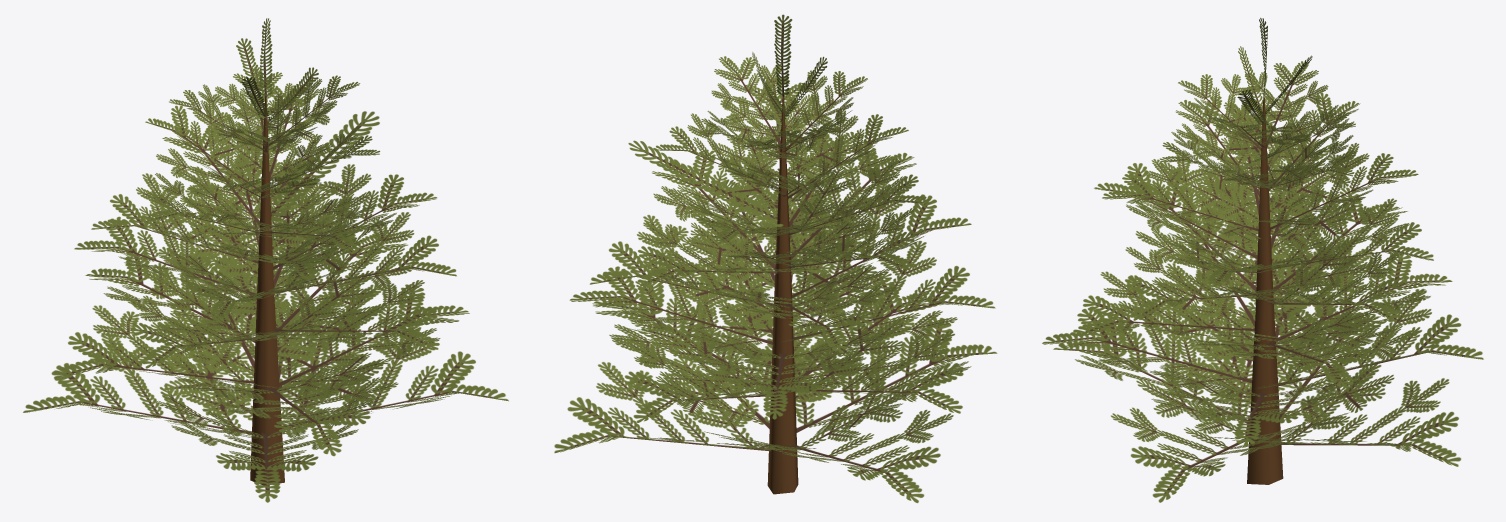
Rendered from Fir_Tree_3.glb.
3 renders of one model, left to right at view 1: azimuth 30°, elevation 25°; view 2: azimuth 150°, elevation 25°; view 3: azimuth 270°, elevation 25°, orthographic. The views are drawn at different scales.
Parts seen in each view (by area): view 1: Fir_Tree_3; view 2: Fir_Tree_3; view 3: Fir_Tree_3.
Part boxes in pixels (box(x1,y1,x2,y2)): Fir_Tree_3: box(23, 18, 508, 502); Fir_Tree_3: box(554, 14, 997, 503); Fir_Tree_3: box(1042, 17, 1483, 502).
Bounding box in the file's own units: 4.03 × 4.44 × 3.99.
2 materials, 2 textured.
